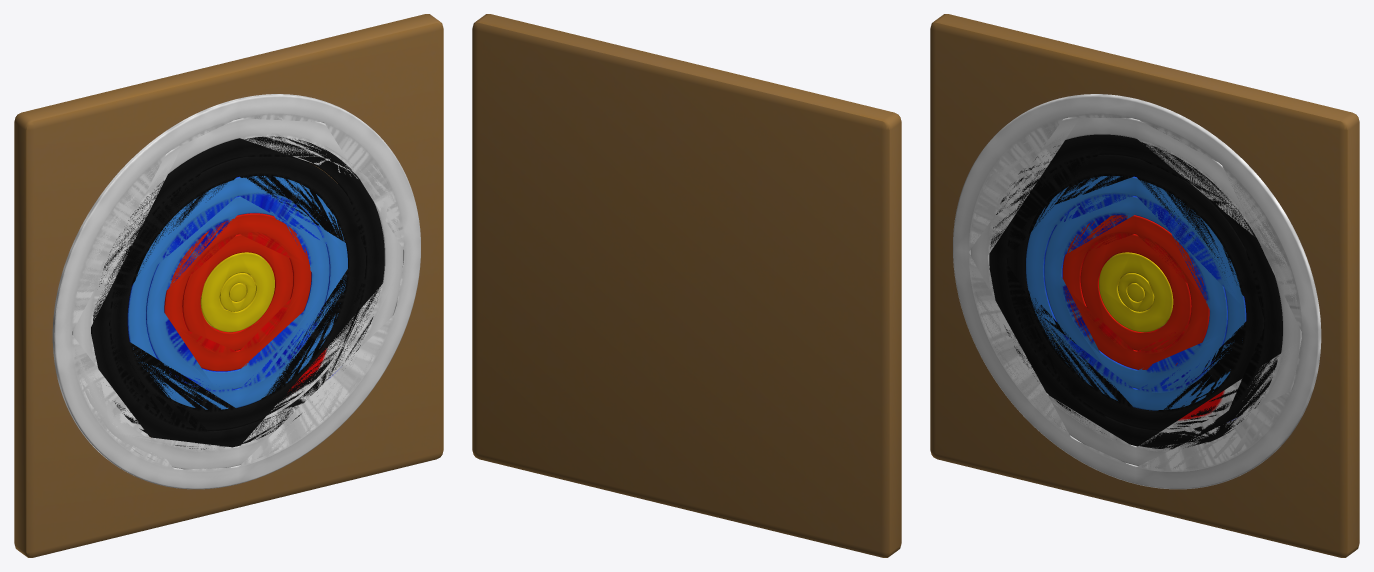
The model's file is Archery Target.fbx.
3 renders of one model, left to right at view 1: azimuth 30°, elevation 25°; view 2: azimuth 150°, elevation 25°; view 3: azimuth 330°, elevation 25°, orthographic.
Visible parts, largest first — view 1: Target; view 2: Target; view 3: Target.
Part boxes in pixels (box(x1,y1,x2,y2)): Target: box(14, 14, 443, 557); Target: box(472, 14, 901, 557); Target: box(930, 14, 1359, 557).
Size of the model in its own units: 569 by 569 by 39.13.
1 material, 1 textured.
